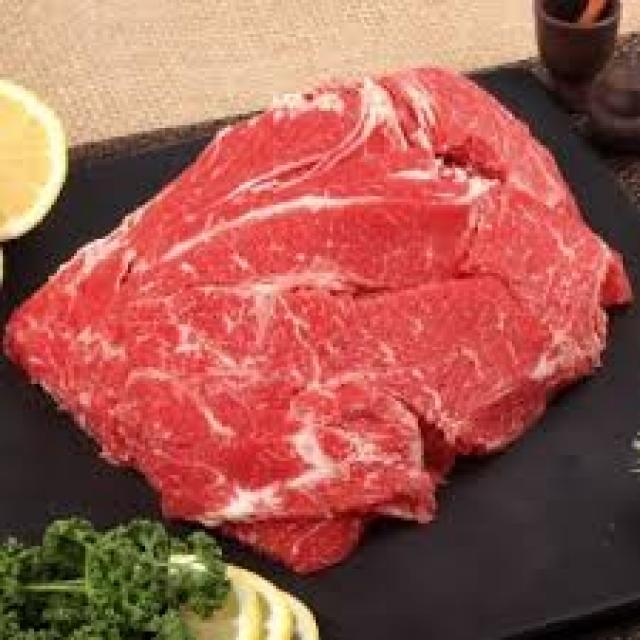beef: (6, 68, 634, 575)
